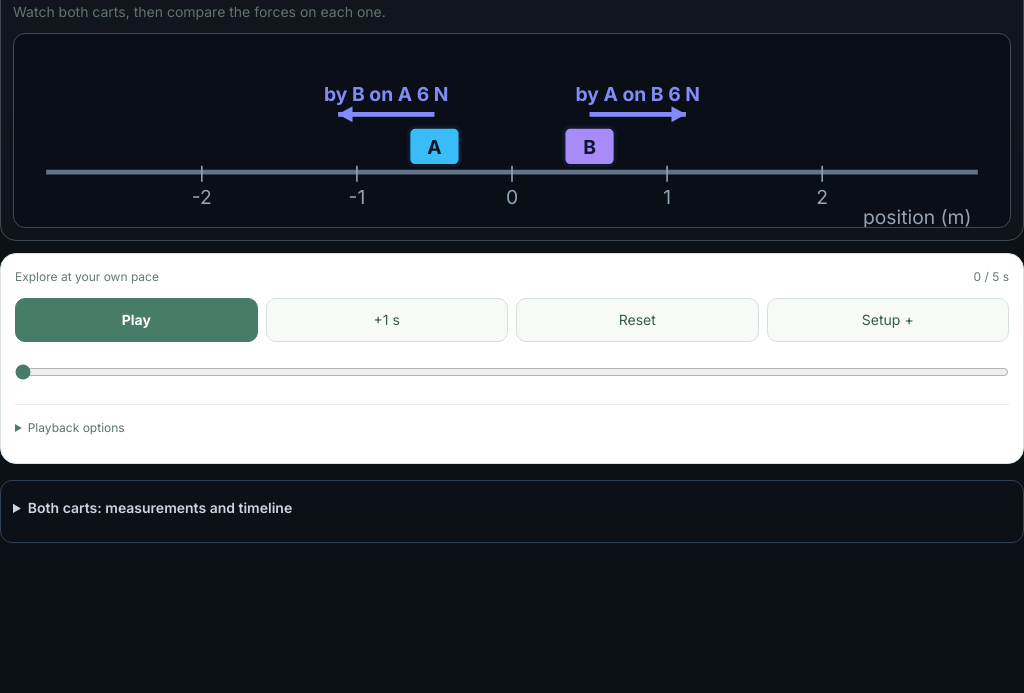
Test: Collapsible experiment setup interaction tests › TwoBodyView: toggles setup open/close seamlessly
Click the button with test id "two-body-setup-toggle".
click(888, 320)  # box [766, 298, 1009, 342]
(page scrolled)
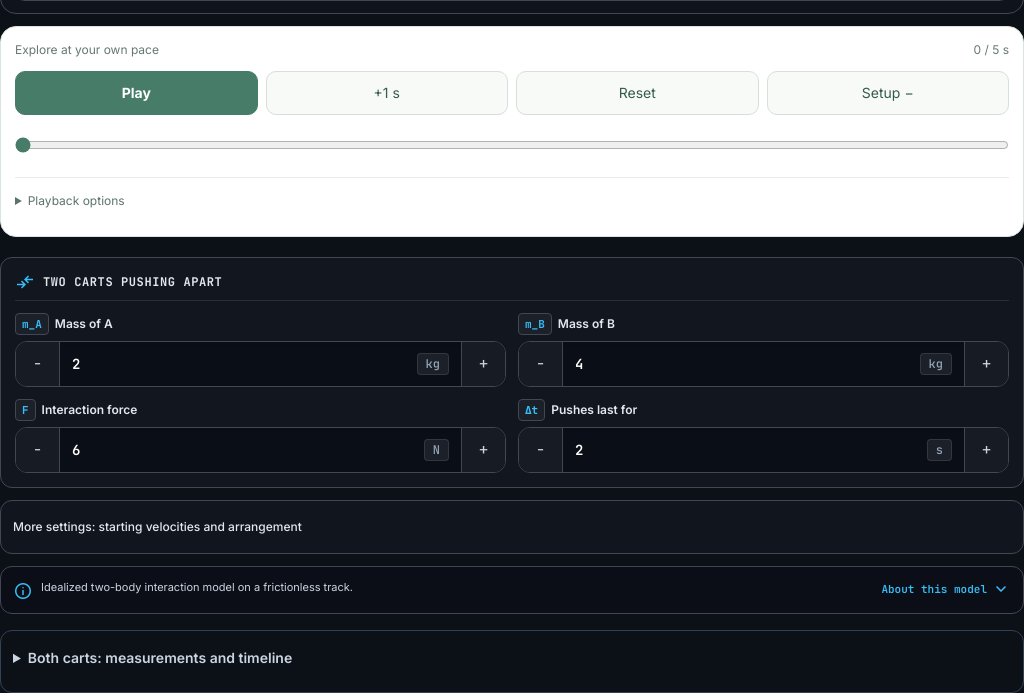
Now the button with test id "two-body-setup-toggle" is expanded, box [766, 71, 1009, 115]
